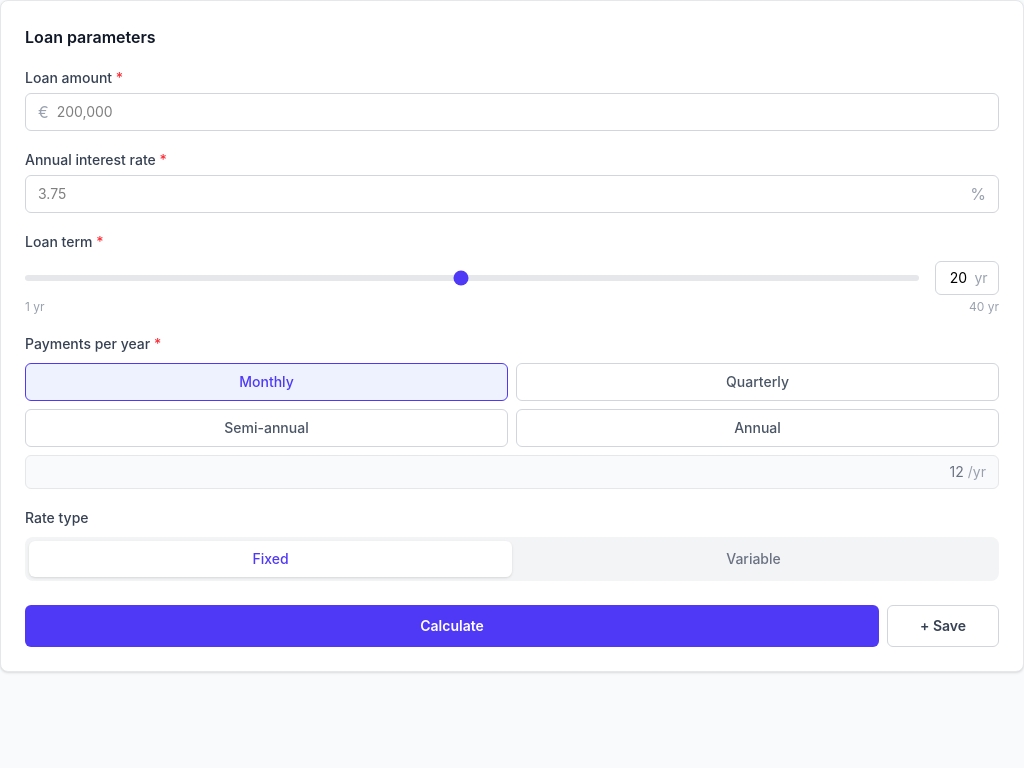
LoanForm state reset on field change › reverts the Save button to "+ Save" after a field changes
The width and height of the screenshot is (1024, 768).
Click the button "+ Save" at (943, 626), box [887,605,999,647]
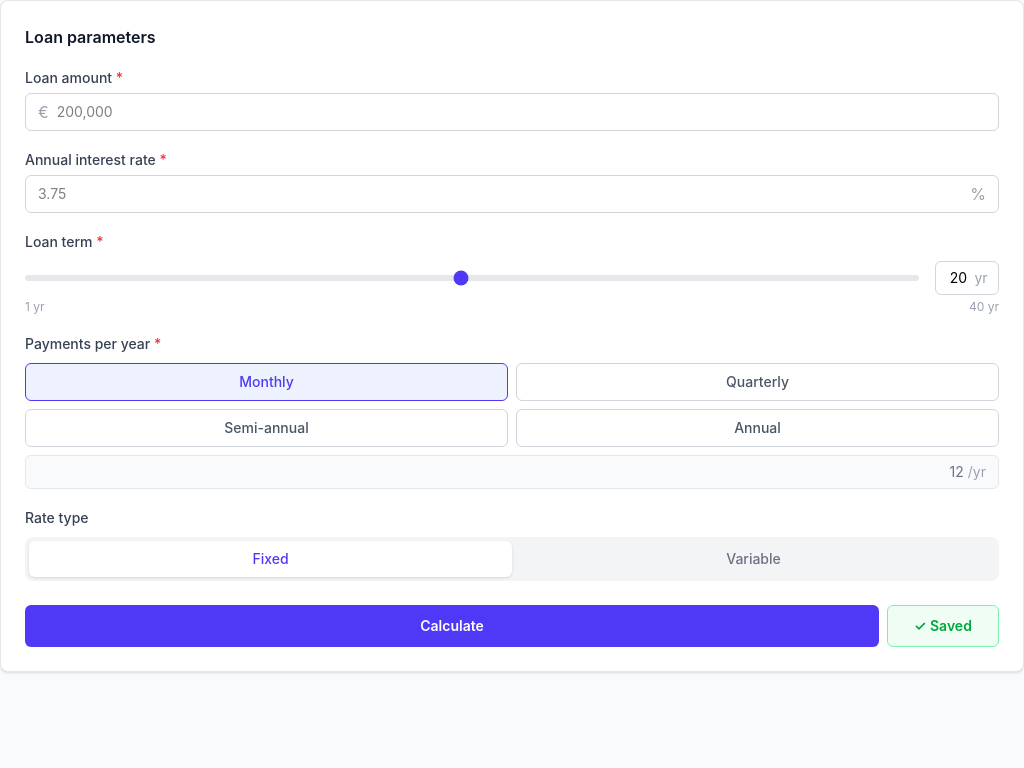
Now the button "✓ Saved" is disabled, box [887,605,999,647]
Type "1" into the number field labelled "Loan amount *" at (517, 112), box [49,94,986,130]
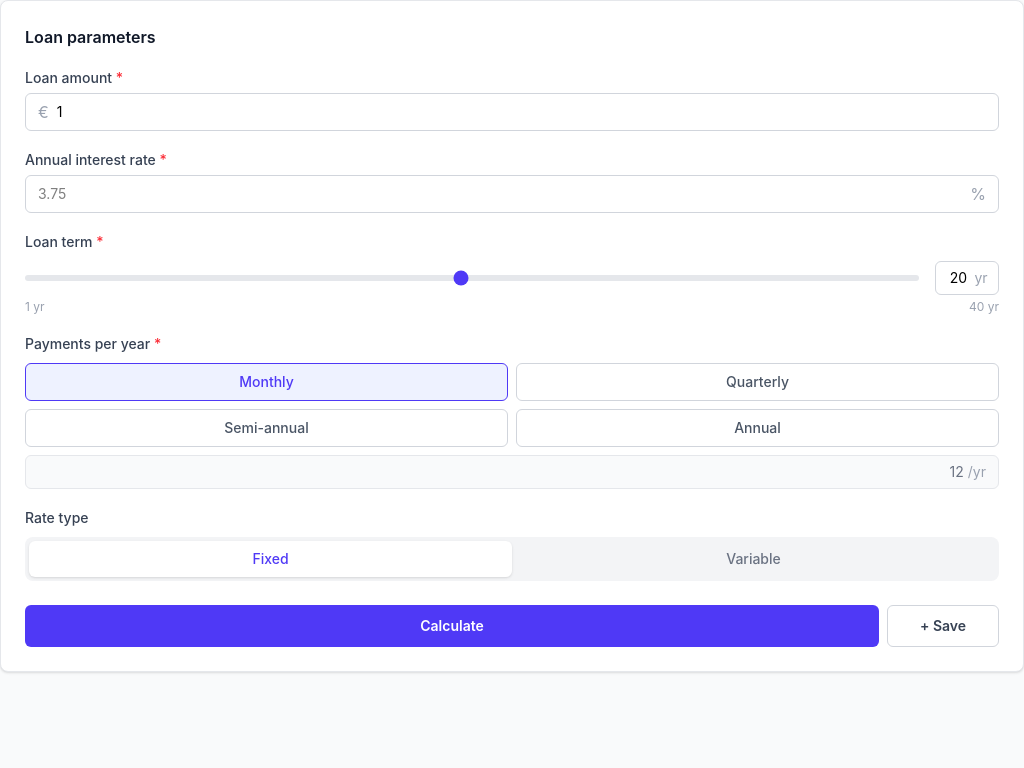
Now the button "+ Save" is enabled, box [887,605,999,647]
Now the button "+ Save" is shown, box [887,605,999,647]
